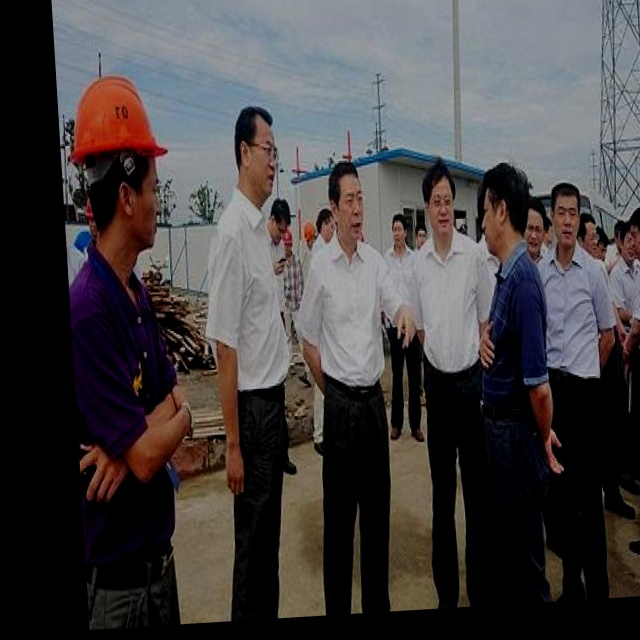Con_Casco: (74, 68, 165, 263)
Sin_Casco_Mascarrilla: (233, 110, 283, 200), (327, 169, 368, 241)
Sin_Chaleco: (415, 236, 483, 373)
